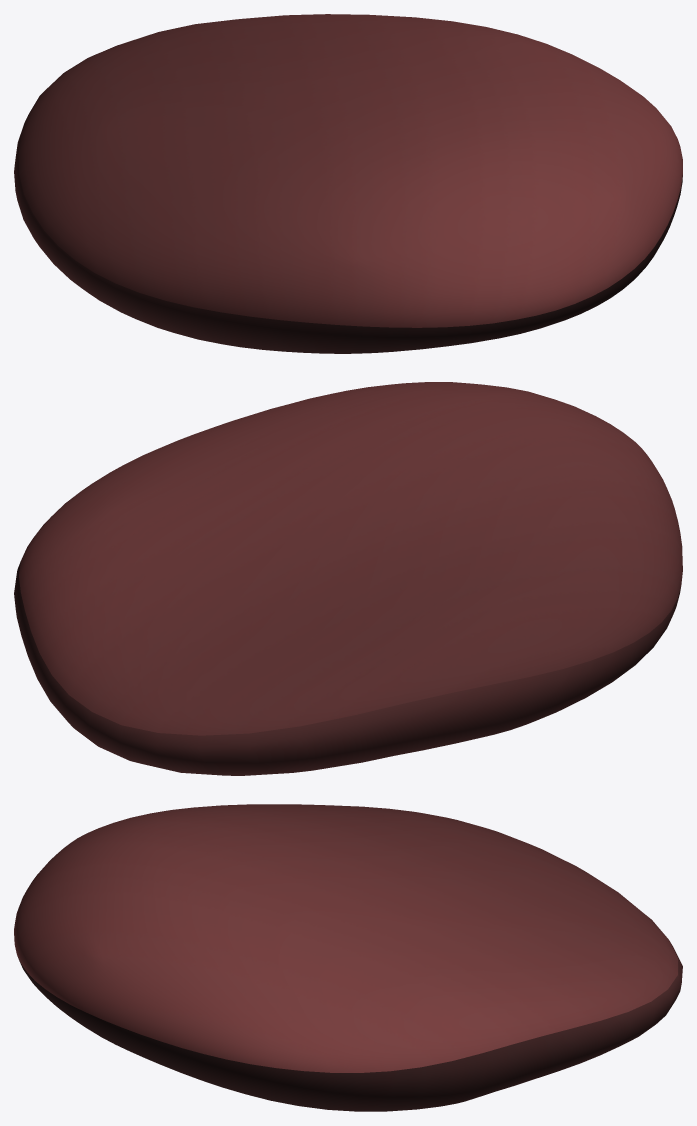
Rendered from common.glb.
3 views of the same model, one above another, from view 1: azimuth 30°, elevation 25°; view 2: azimuth 150°, elevation 25°; view 3: azimuth 270°, elevation 25° (orthographic). The views are drawn at different scales.
Parts seen in each view (by area): view 1: cs_tongue; view 2: cs_tongue; view 3: cs_tongue.
Boxes of the visible parts, x1,y1,x2,y2 form: cs_tongue: [14, 14, 682, 353]; cs_tongue: [14, 382, 682, 775]; cs_tongue: [14, 804, 682, 1111].
Bounding box in the file's own units: 0.0983 × 0.0366 × 0.1146.
1 material, 1 textured.
